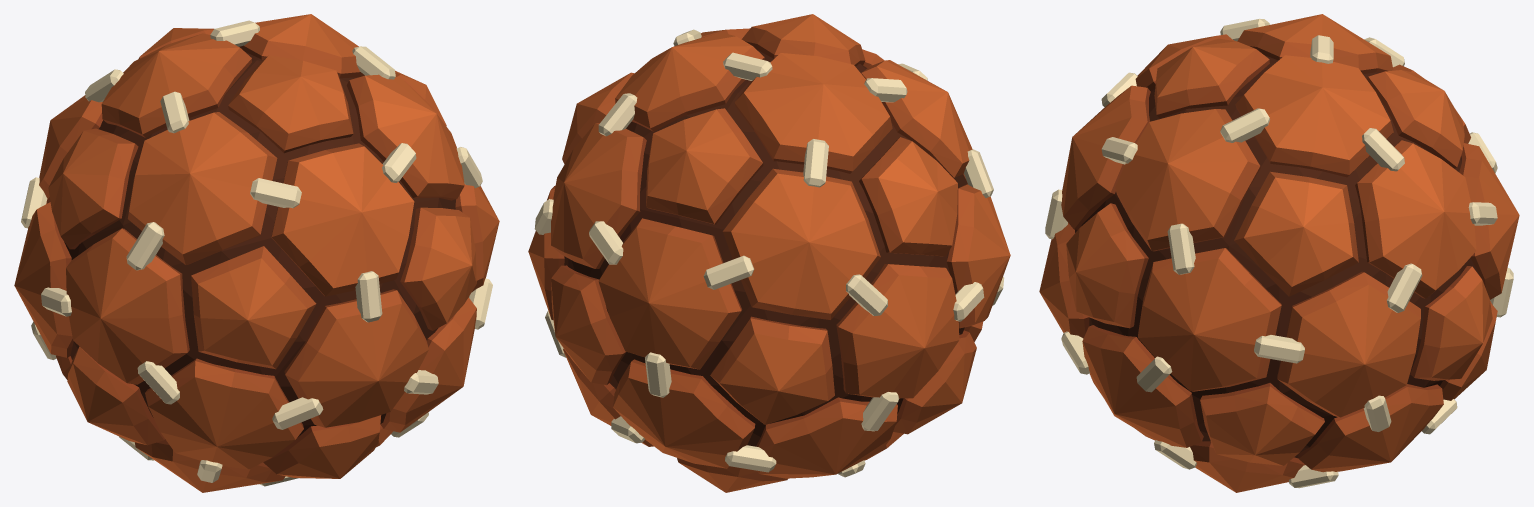
File: Ball_05_Leather.glb
3 renders of one model, left to right at view 1: azimuth 30°, elevation 25°; view 2: azimuth 150°, elevation 25°; view 3: azimuth 270°, elevation 25°, orthographic.
Visible parts, largest first — view 1: Ball_05_Leather.001; view 2: Ball_05_Leather.001; view 3: Ball_05_Leather.001.
Boxes of the visible parts, left/top/right/bottom form: Ball_05_Leather.001: left=14, top=14, right=499, bottom=492; Ball_05_Leather.001: left=528, top=14, right=1010, bottom=492; Ball_05_Leather.001: left=1039, top=14, right=1519, bottom=492.
Size of the model in its own units: 2.07 by 2.04 by 2.12.
1 material, 1 textured.
